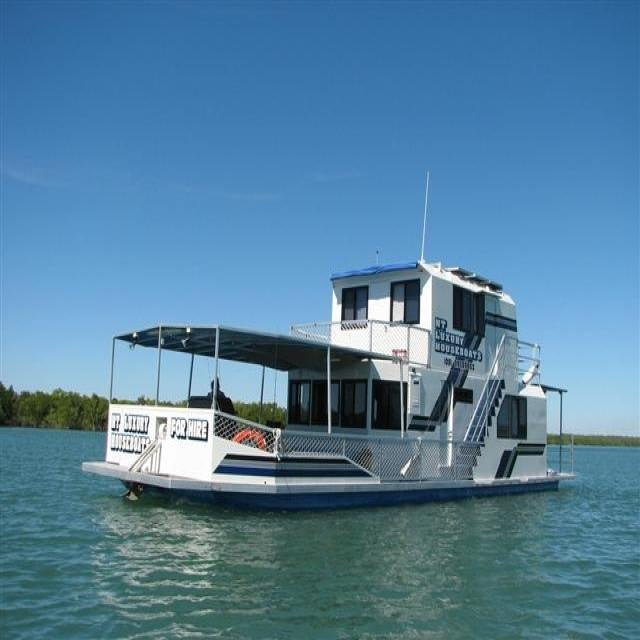passenger ship: (74, 204, 578, 507)
